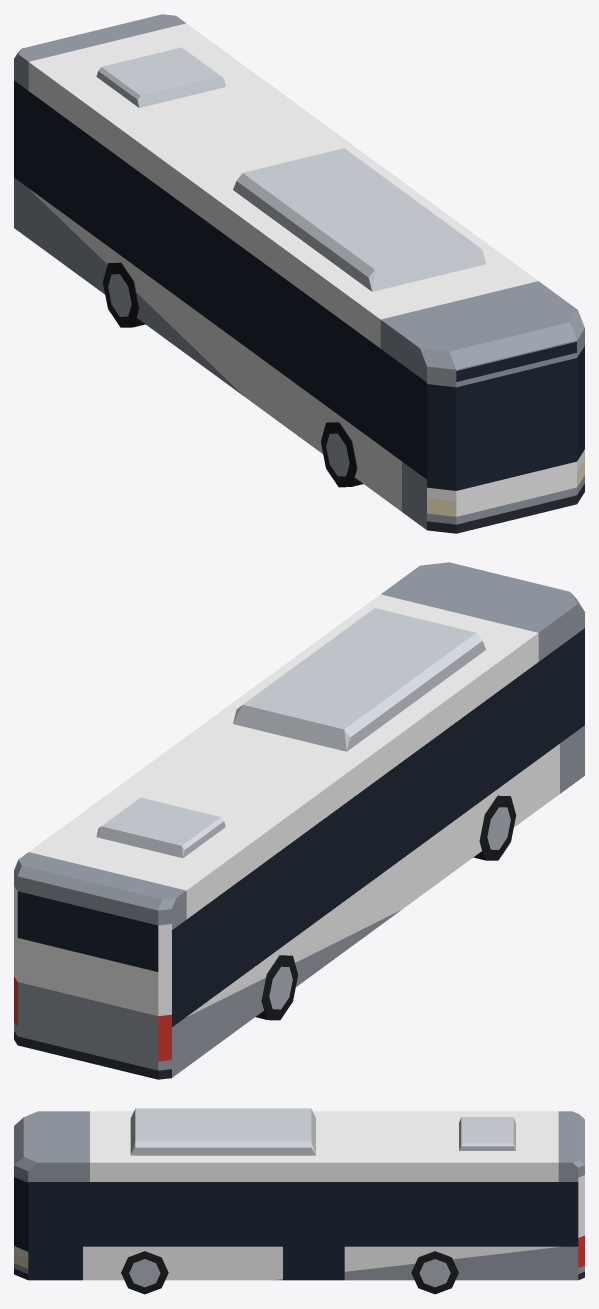
Rendered from bus.glb.
3 renders of one model, top to bottom at view 1: azimuth 30°, elevation 25°; view 2: azimuth 150°, elevation 25°; view 3: azimuth 270°, elevation 25°, orthographic. The views are drawn at different scales.
Parts seen in each view (by area): view 1: bus; view 2: bus; view 3: bus.
Part boxes in pixels (x1=…): bus: x1=14, y1=14, x2=584, y2=533; bus: x1=14, y1=562, x2=584, y2=1079; bus: x1=14, y1=1108, x2=584, y2=1294.
Size of the model in its own units: 2.6 by 3.33 by 12.
